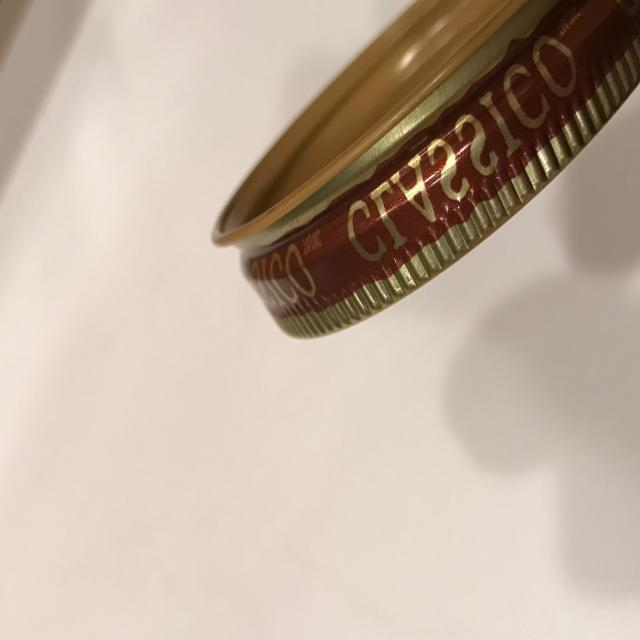metal: (211, 0, 640, 342)
